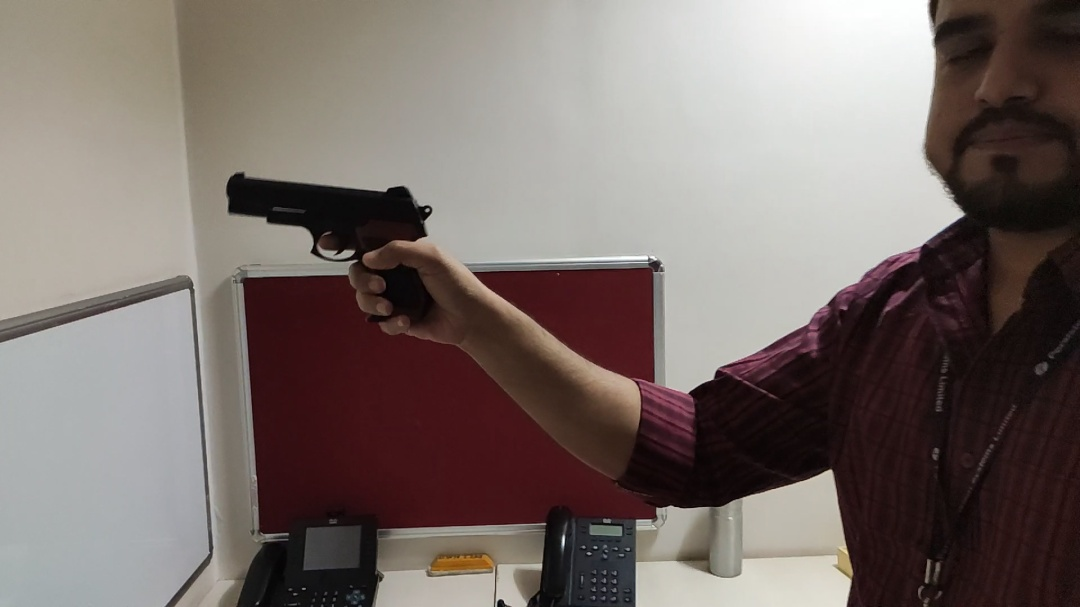gun: (224, 168, 443, 324)
